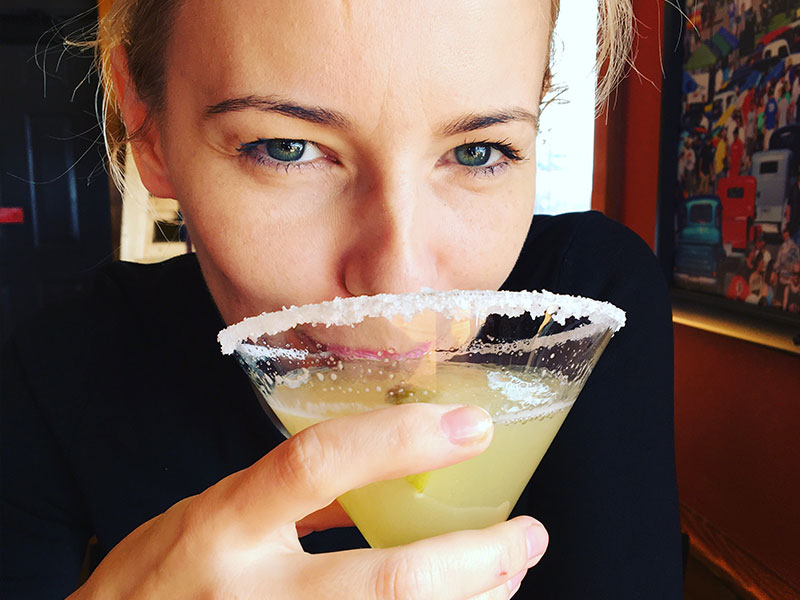eating: (56, 6, 689, 475)
